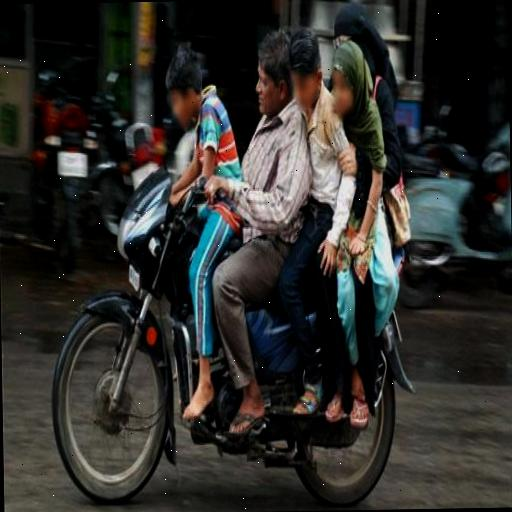no helmet: (246, 27, 312, 140)
triple riding: (42, 30, 421, 506)
